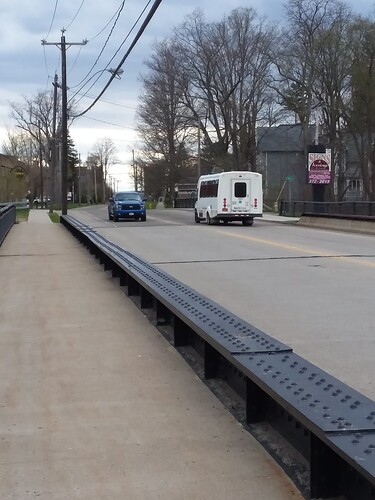bus: (190, 170, 270, 232)
car: (100, 190, 150, 223)
street: (90, 226, 375, 415)
tree: (129, 9, 274, 191), (264, 1, 375, 209), (14, 95, 83, 212)
